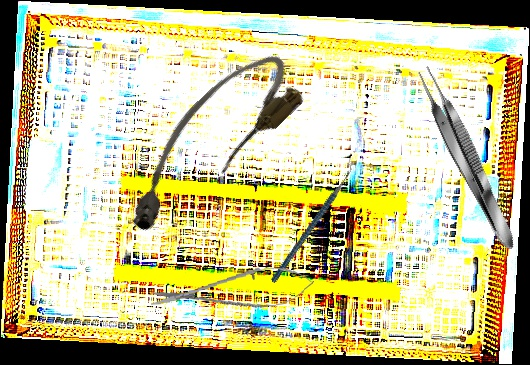Cannula: (100, 40, 314, 245)
Chopper: (240, 157, 384, 284)
Micro Scissor: (148, 261, 316, 320)
Tissue Forceps: (409, 62, 524, 256)
